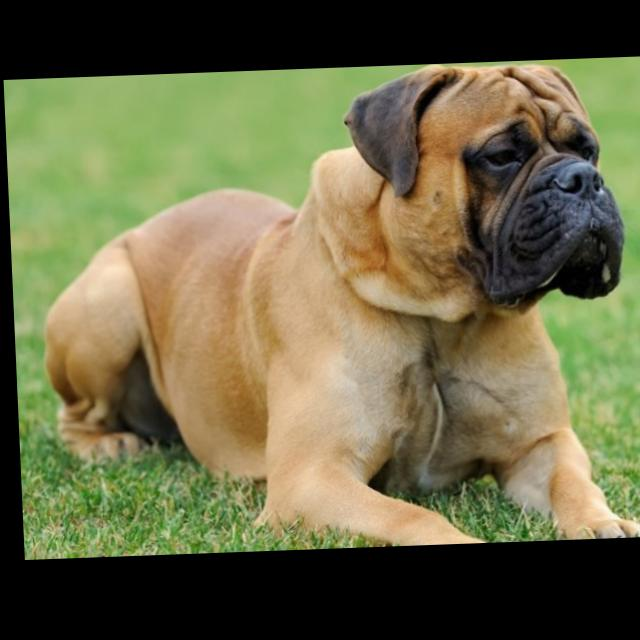mastiff: (31, 63, 640, 560)
